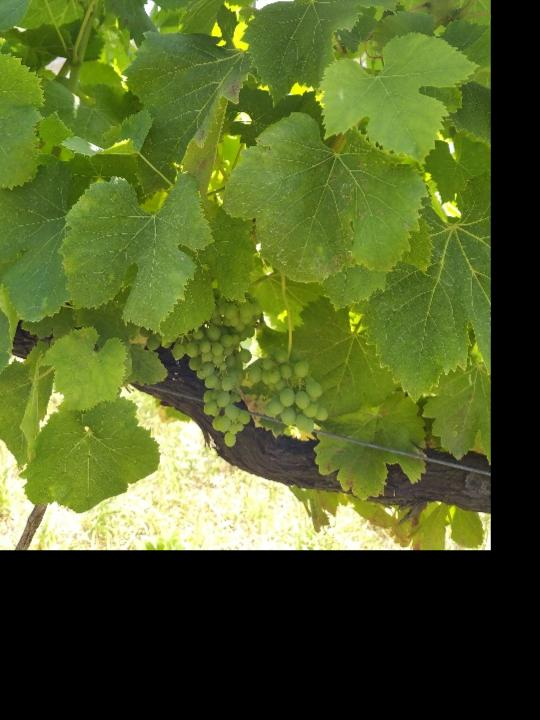grape: (164, 294, 334, 449)
